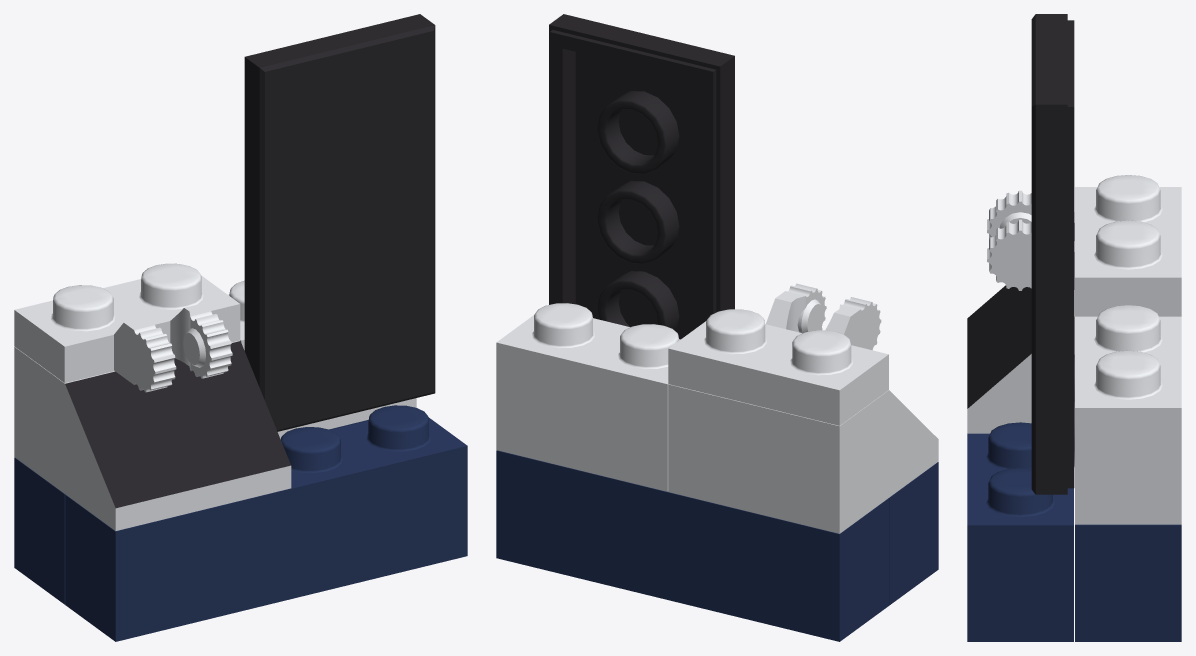
3 renders of one model, left to right at view 1: azimuth 30°, elevation 25°; view 2: azimuth 150°, elevation 25°; view 3: azimuth 270°, elevation 25°, orthographic. The views are drawn at different scales.
Parts seen in each view (by area): view 1: Part.4; view 2: Part.4; view 3: Part.4.
Part boxes in pixels (x1,y1,x2,y2): Part.4: [14, 14, 467, 641]; Part.4: [496, 14, 938, 641]; Part.4: [967, 14, 1181, 641].
Bounding box in the file's own units: 3.19 × 4.4 × 1.59.
Materials: 1 (1 with a texture image).
